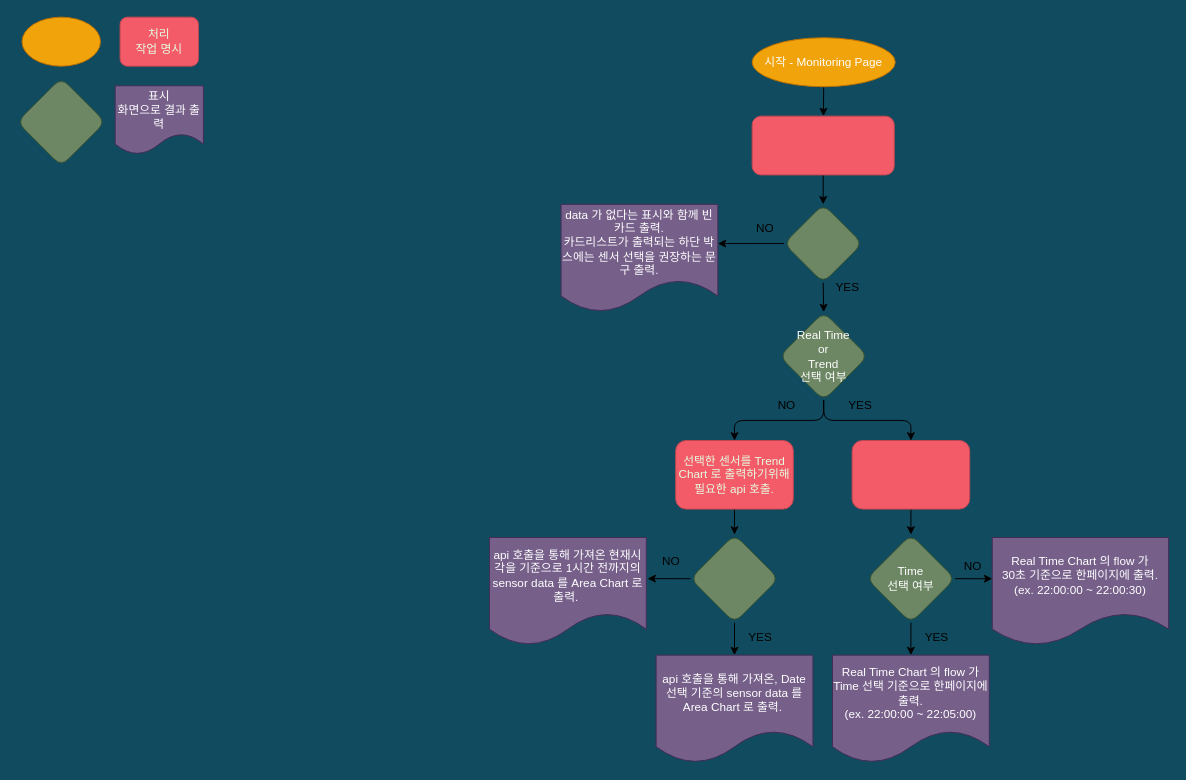
This 1186x780 diagram has some shape labels left out. The box of each missing label's shape, as (x1, y1, x2, y2) in pixels:
Date 선택 여부: (689, 534, 779, 623)
계정의 token 을 기반으로 권한에 맞는 data 호출: (751, 115, 894, 175)
선택한 센서를 Real Time Chart 로 출력하기위해 필요한 api 호출.: (851, 440, 970, 509)
설비선택 Select Tree 선택 여부: (783, 203, 862, 283)
시작 끝: (21, 16, 100, 66)
의사결정 비교 및 판단: (16, 77, 105, 166)
